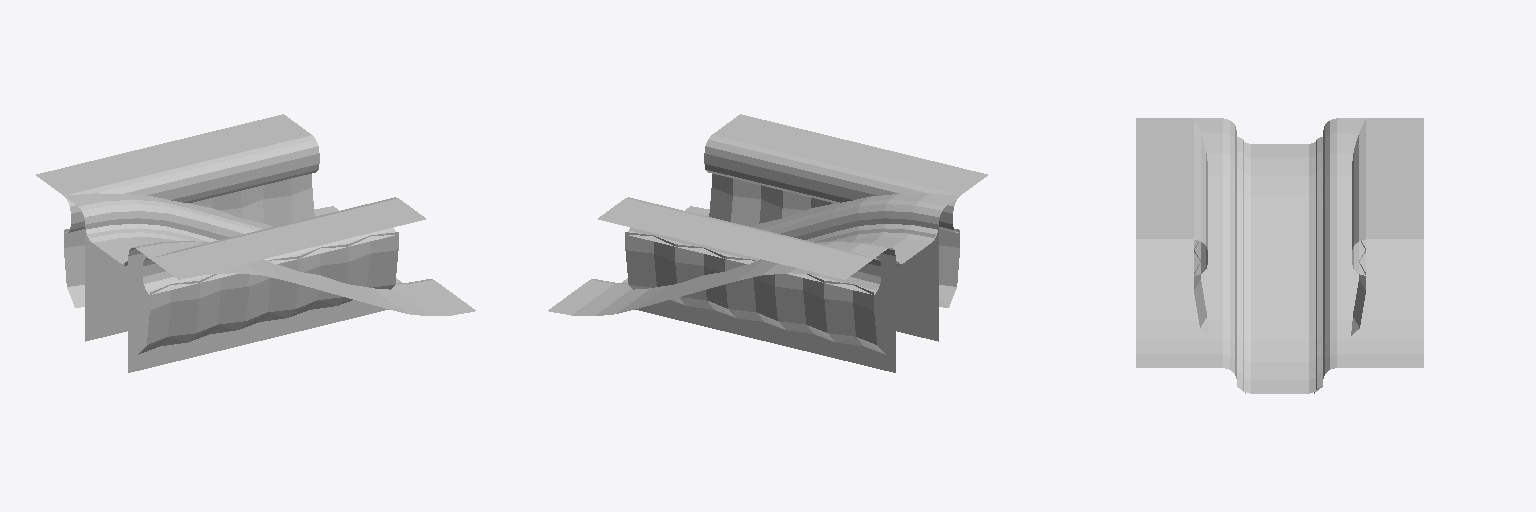
File: Track_Cliff_Incline_Striped_2_Tall_Single.obj
3 views of the same model, side by side, from view 1: azimuth 30°, elevation 25°; view 2: azimuth 150°, elevation 25°; view 3: azimuth 270°, elevation 25° (orthographic).
Visible parts, largest first — view 1: Grass, Rock, Dirt, Raceline_Color_2; view 2: Grass, Rock, Dirt, Raceline_Color_2; view 3: Grass, Dirt, Raceline_Color_1, Raceline_Color_2, Rock.
Part boxes in pixels (x1,y1,x2,y2): Grass: (36,114,475,372); Rock: (64,174,398,354); Dirt: (86,232,401,283); Raceline_Color_2: (86,224,213,265); Grass: (548,114,987,372); Rock: (625,174,959,354); Dirt: (622,232,937,283); Raceline_Color_2: (810,224,937,265); Grass: (1136,118,1423,378); Dirt: (1237,142,1322,393); Raceline_Color_1: (1237,151,1322,393); Raceline_Color_2: (1237,137,1322,375); Rock: (1194,241,1365,335).
Size of the model in its own units: 6 by 2.5 by 5.